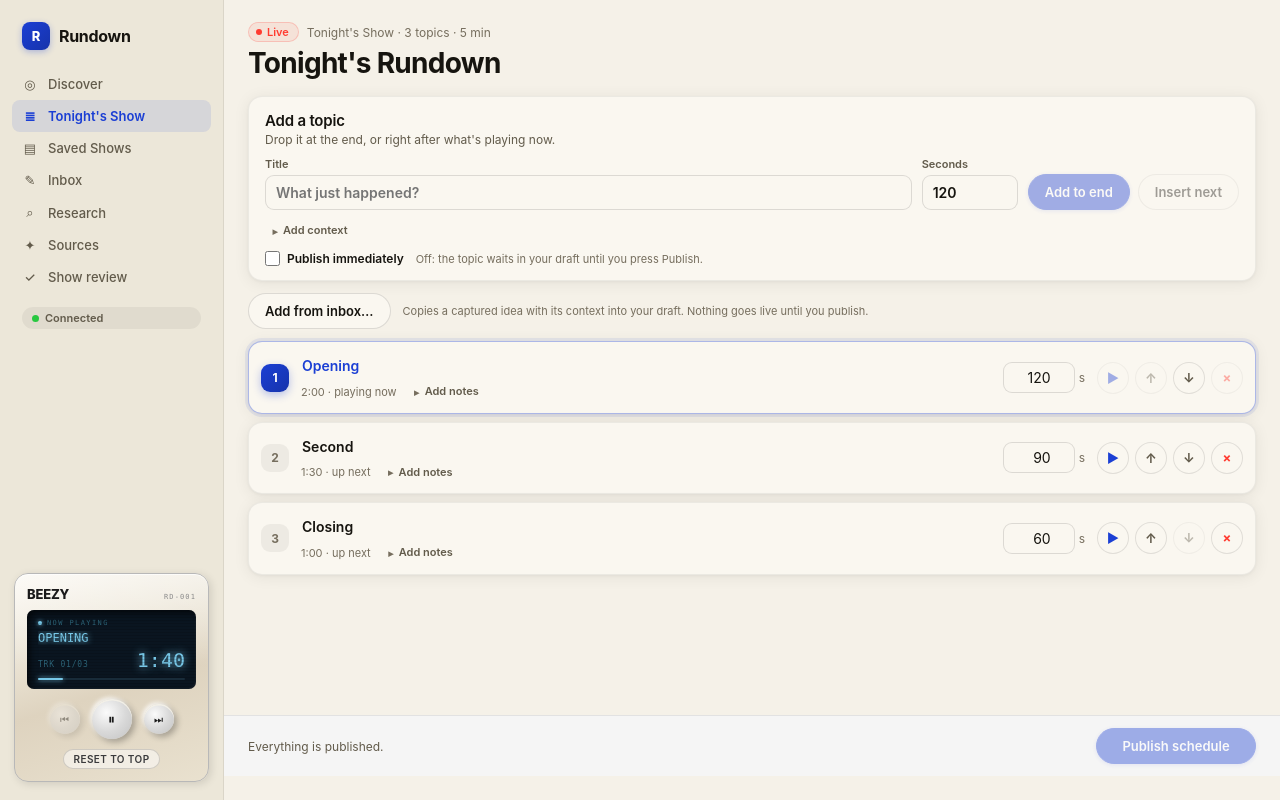
Test: merge without publishing brings the other screen's changes into the draft and keeps editing open
Replace the text in the field named "Topic 1 title" with "Opening edited": (640, 366) x1=295 y1=352 x2=985 y2=379
Wait 1000 ms
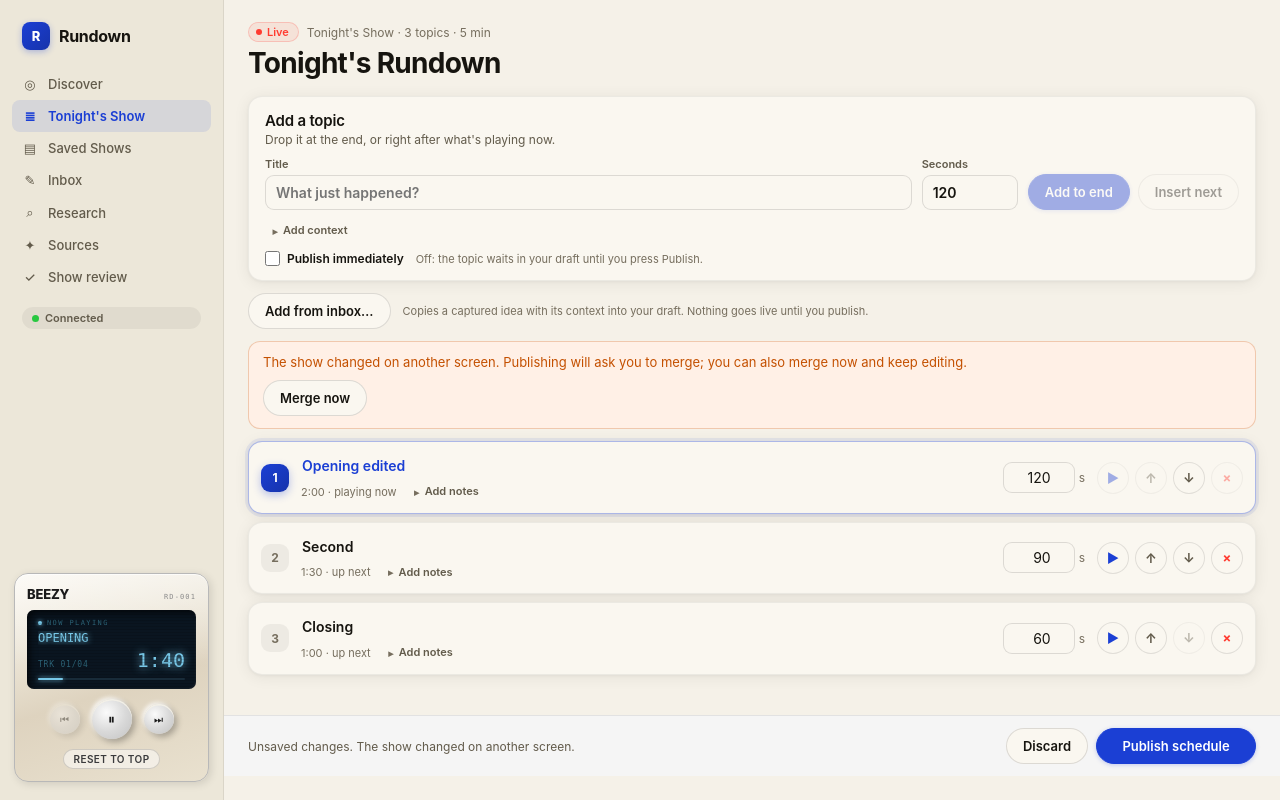
Click the button "Merge now": (315, 398) x1=263 y1=380 x2=367 y2=416
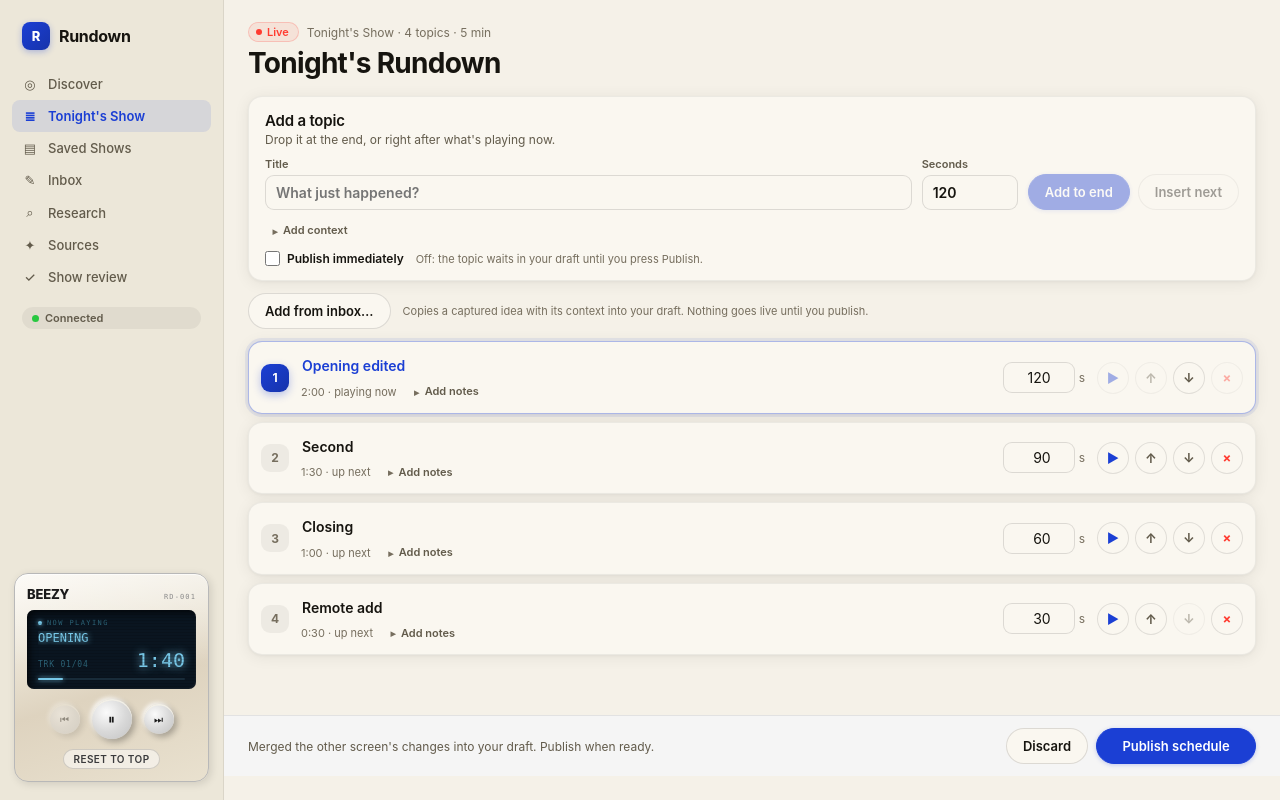
Expected: the button "Publish schedule" is enabled, x1=1096 y1=728 x2=1256 y2=764
Expected: the field showing "Remote add" is shown, x1=295 y1=594 x2=985 y2=621
Expected: the text "Merged the other screen's changes into your draft" is shown, x1=248 y1=738 x2=654 y2=754
